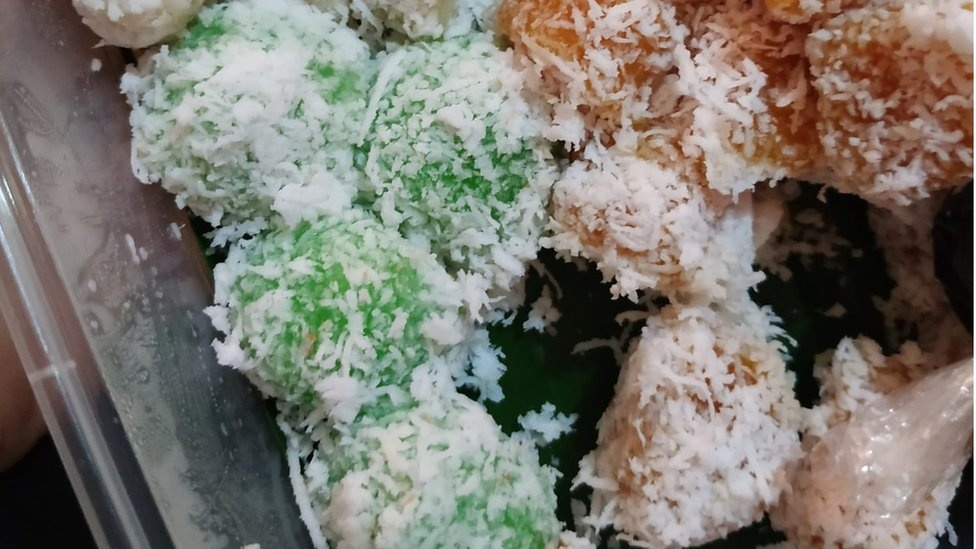klepon: (143, 178, 480, 427)
